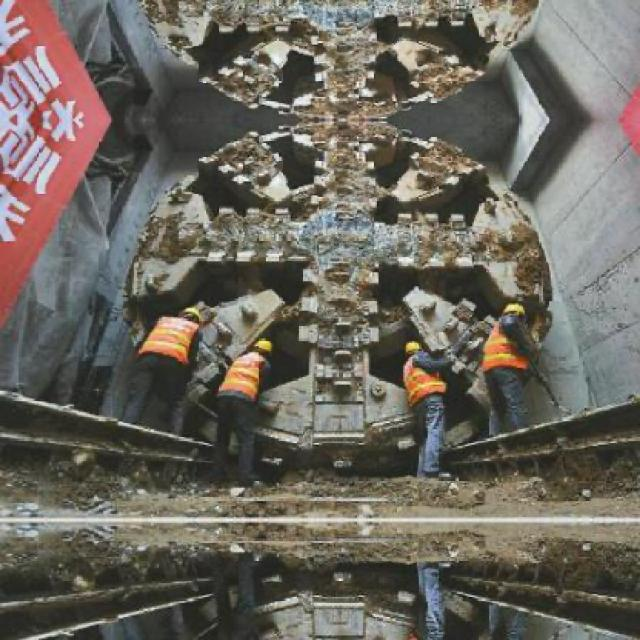helmet: (500, 298, 528, 324), (178, 304, 204, 328), (252, 335, 276, 357), (402, 337, 426, 357)
